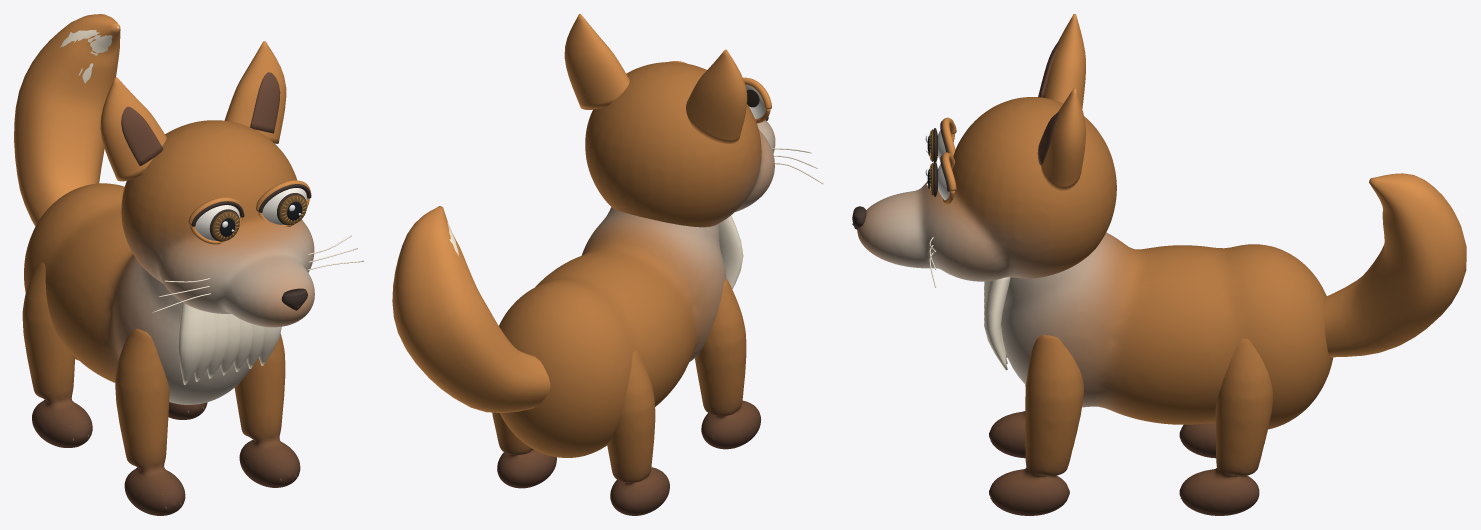
Rendered from fox.glb.
The picture shows the model from 3 angles, left to right: view 1: azimuth 30°, elevation 25°; view 2: azimuth 150°, elevation 25°; view 3: azimuth 270°, elevation 25°; orthographic projection. The views are drawn at different scales.
Parts seen in each view (by area): view 1: fox continuous face, fox organic body, Curved fluffy tail.001, fox leg and paw, fox leg and paw.001, fox leg and paw.002, Sculpted pointed ear.002, Sculpted pointed ear.003, Fox chest ruff, Ear hollow.002, Ear hollow.003, Ivory tail tip (+12 smaller); view 2: fox organic body, fox continuous face, Curved fluffy tail.001, fox leg and paw, fox leg and paw.001, Sculpted pointed ear.002, Sculpted pointed ear.003, fox leg and paw.003, Fox chest ruff; view 3: fox organic body, fox continuous face, Curved fluffy tail.001, fox leg and paw.002, fox leg and paw.003, Sculpted pointed ear.003, Sculpted pointed ear.002, Fox chest ruff.006, fox leg and paw, fox leg and paw.001.
Boxes of the visible parts, x1,y1,x2,y2 form: fox continuous face: (121,120,314,327); fox organic body: (24,183,250,404); Curved fluffy tail.001: (14,14,120,226); fox leg and paw: (115,328,185,515); fox leg and paw.001: (22,262,92,447); fox leg and paw.002: (234,333,300,487); Sculpted pointed ear.002: (100,77,166,181); Sculpted pointed ear.003: (224,41,286,143); Fox chest ruff: (178,302,205,384); Ear hollow.002: (121,106,163,165); Ear hollow.003: (250,72,280,133); Ivory tail tip: (60,26,118,83); fox organic body: (499,207,726,457); fox continuous face: (585,62,775,227); Curved fluffy tail.001: (392,206,550,412); fox leg and paw: (695,278,761,449); fox leg and paw.001: (607,351,669,515); Sculpted pointed ear.002: (686,49,747,143); Sculpted pointed ear.003: (564,14,629,109); fox leg and paw.003: (492,412,556,488); Fox chest ruff: (719,215,743,288); fox organic body: (1001,232,1333,429); fox continuous face: (857,97,1116,281); Curved fluffy tail.001: (1324,173,1466,357); fox leg and paw.002: (989,335,1083,515); fox leg and paw.003: (1179,338,1273,515); Sculpted pointed ear.003: (1041,88,1085,190); Sculpted pointed ear.002: (1044,14,1085,108); Fox chest ruff.006: (984,277,1010,370); fox leg and paw: (989,385,1025,458); fox leg and paw.001: (1179,423,1215,458).
Bounding box in the file's own units: 0.8811 × 1.68 × 2.16.
